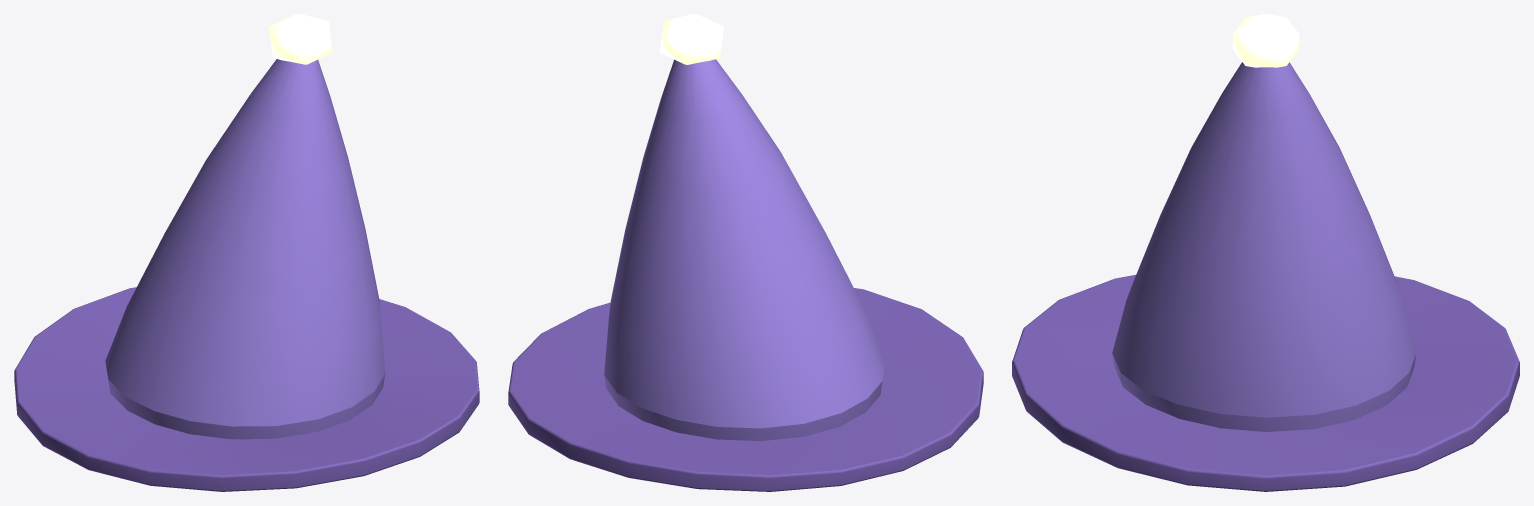
File: wizard.glb
3 renders of one model, left to right at view 1: azimuth 30°, elevation 25°; view 2: azimuth 150°, elevation 25°; view 3: azimuth 270°, elevation 25°, orthographic. The views are drawn at different scales.
Visible parts, largest first — view 1: HAT_Wizard_Cone, HAT_Wizard_Brim, HAT_Wizard_Tip; view 2: HAT_Wizard_Cone, HAT_Wizard_Brim, HAT_Wizard_Tip; view 3: HAT_Wizard_Cone, HAT_Wizard_Brim, HAT_Wizard_Tip.
Boxes of the visible parts, left/top/right/bottom form: HAT_Wizard_Cone: left=105, top=59, right=385, bottom=439; HAT_Wizard_Brim: left=14, top=287, right=479, bottom=491; HAT_Wizard_Tip: left=268, top=14, right=332, bottom=64; HAT_Wizard_Cone: left=604, top=59, right=885, bottom=441; HAT_Wizard_Brim: left=508, top=288, right=983, bottom=491; HAT_Wizard_Tip: left=659, top=14, right=723, bottom=64; HAT_Wizard_Cone: left=1112, top=62, right=1416, bottom=431; HAT_Wizard_Brim: left=1012, top=275, right=1519, bottom=491; HAT_Wizard_Tip: left=1232, top=14, right=1299, bottom=67.
Bounding box in the file's own units: 0.7221 × 0.6232 × 0.7179.
